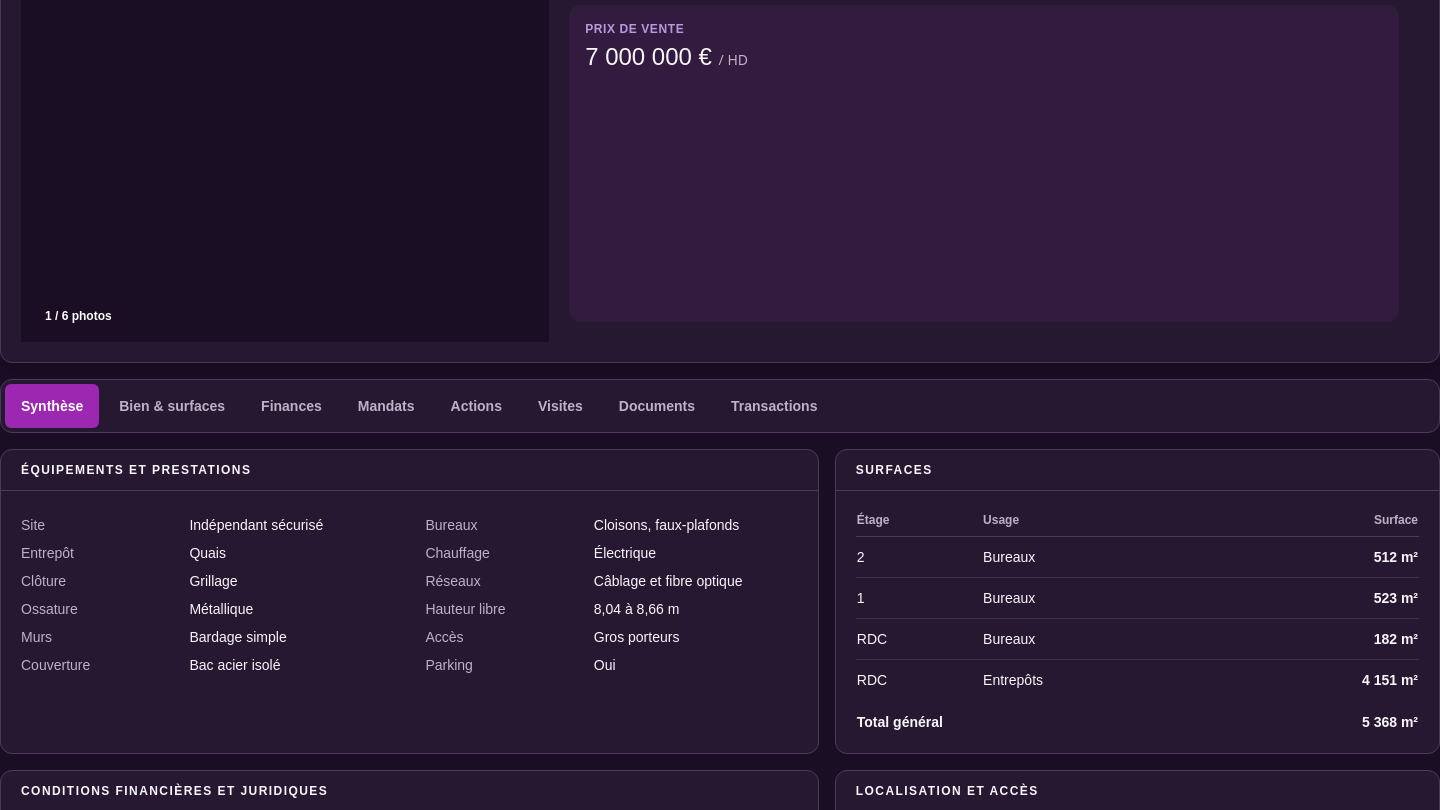
Scenario: une offre à vendre masque les conditions locatives
The width and height of the screenshot is (1440, 810).
(page scrolled)
Click the button "Transactions". click: (774, 406)
box: [715,384,833,428]
(page scrolled)
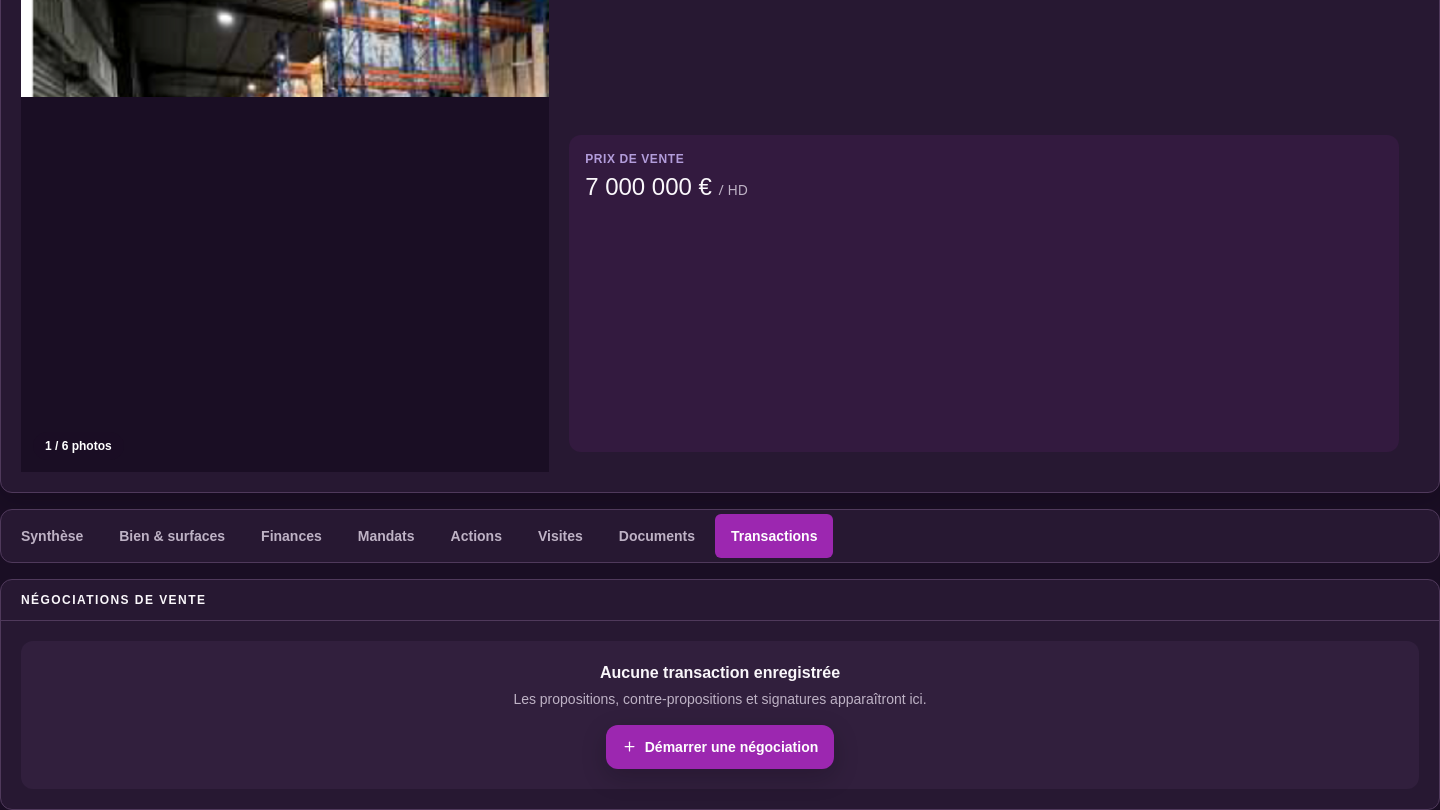
expect the heading "Négociations de vente" is shown: met, box [21,593,206,607]
